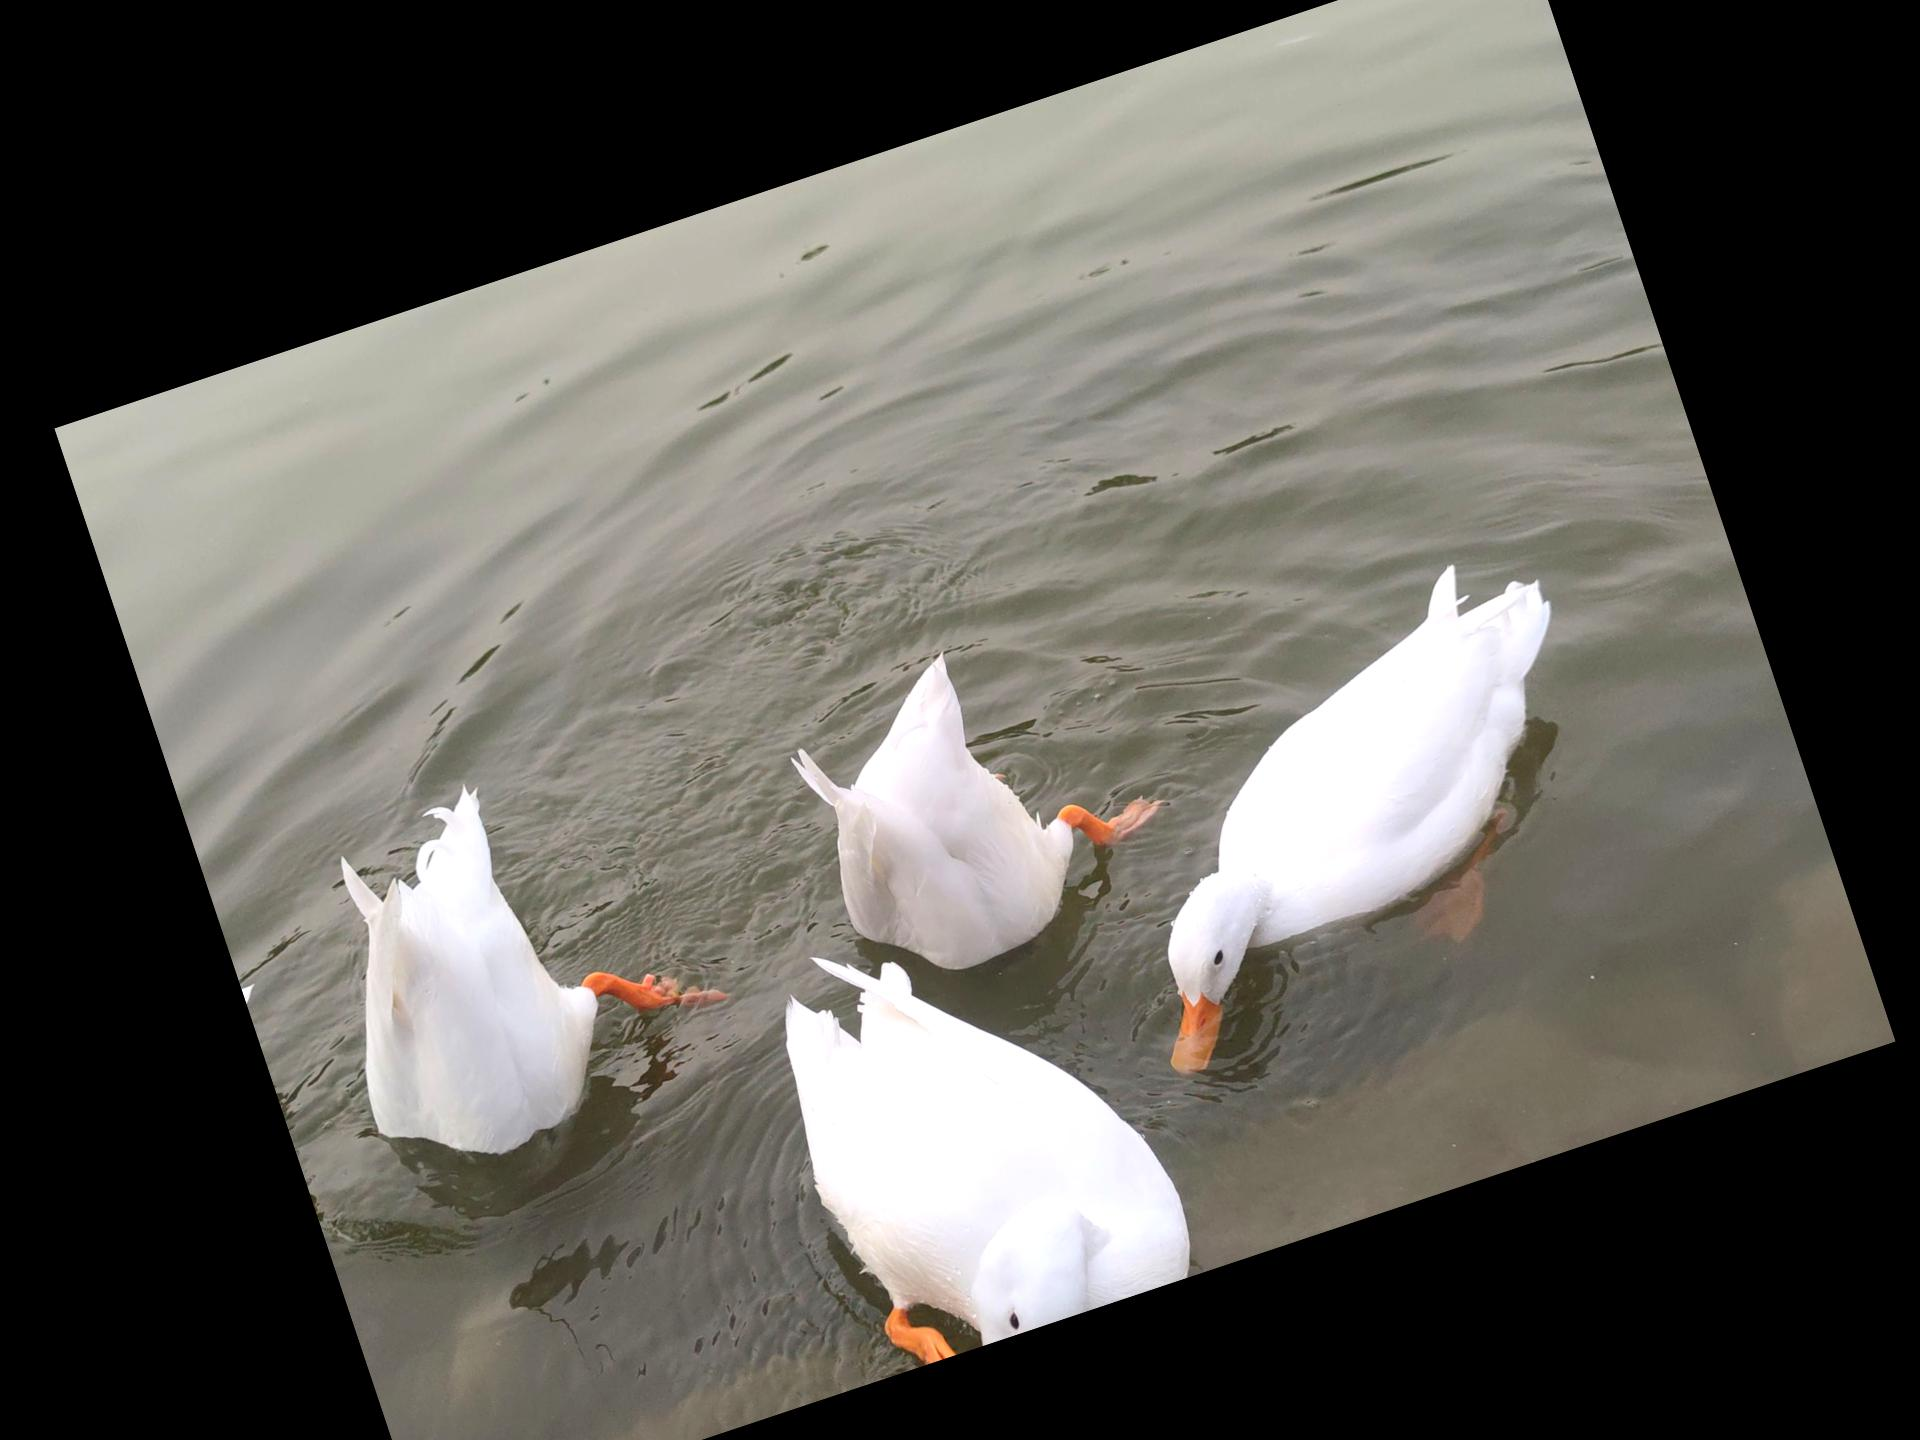duck: (1025, 523, 1686, 1119), (708, 839, 1247, 1389), (255, 700, 756, 1190), (747, 573, 1202, 1007)
